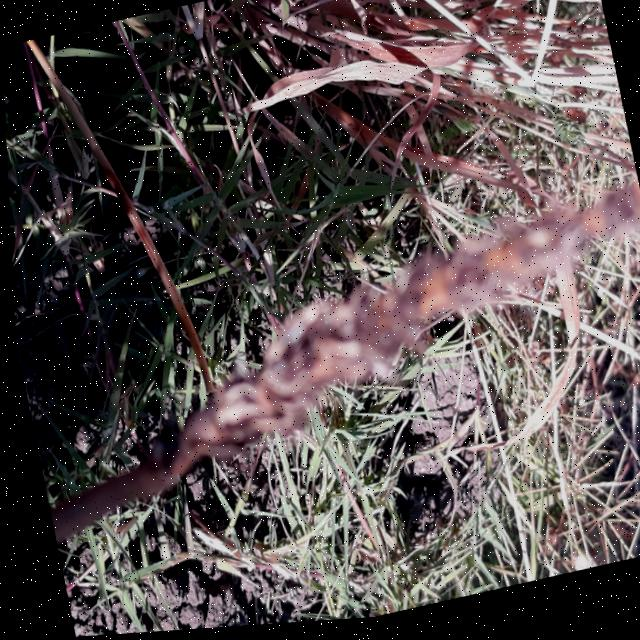loose_charred: (6, 124, 640, 612)
